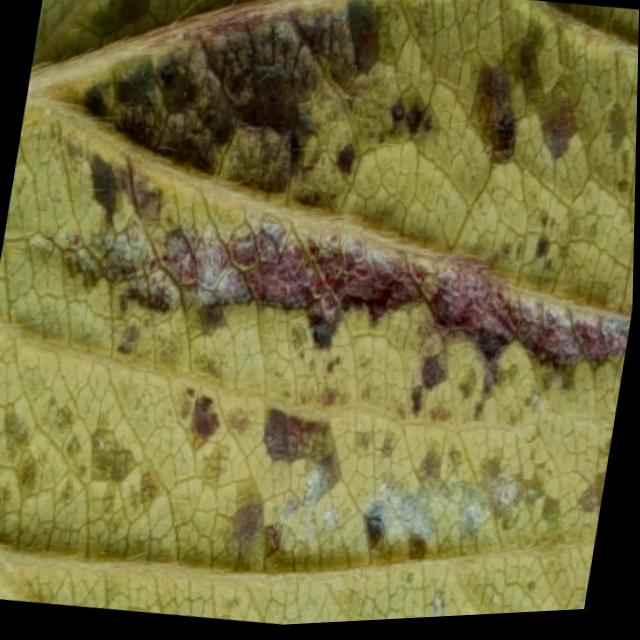Angular Leafspot: (0, 0, 639, 628)
